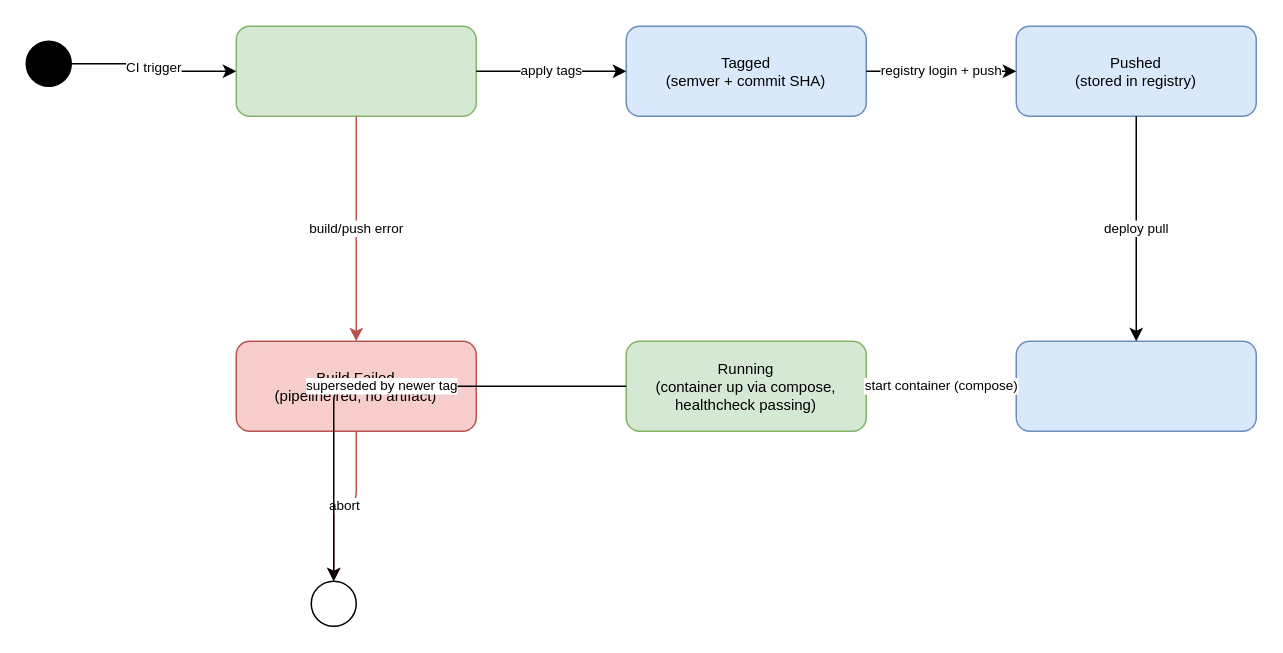
This 1283x653 diagram has some shape labels left out. Here are the shapes that lost their labels. From the top down, the centre of each, then its label:
At (x=355, y=70): "Built (multi-stage build, production target)".
At (x=1135, y=385): "Pulled (fetched for deployment)".
